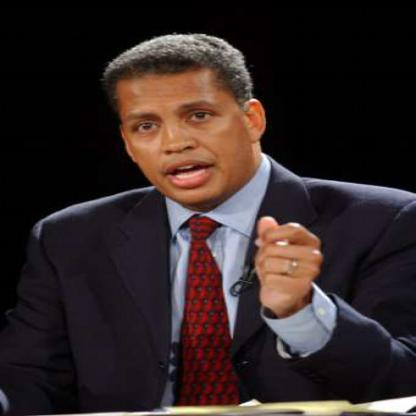face: (118, 40, 250, 204)
